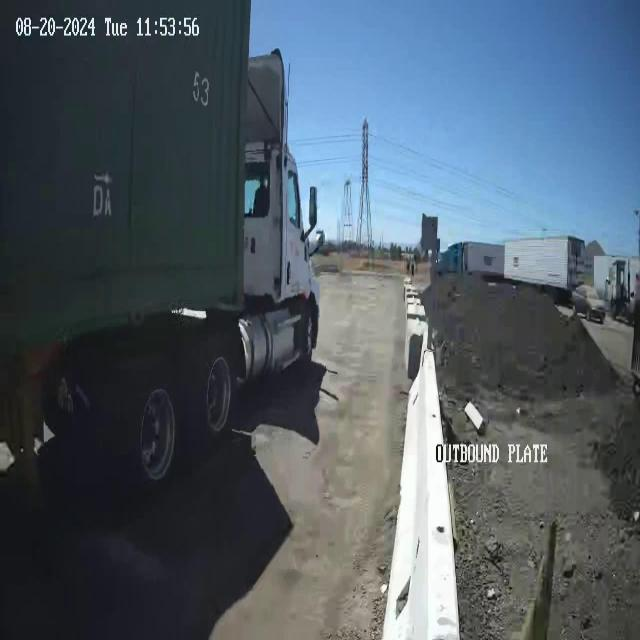TRUCK_CONTAINER: (2, 1, 324, 506)
